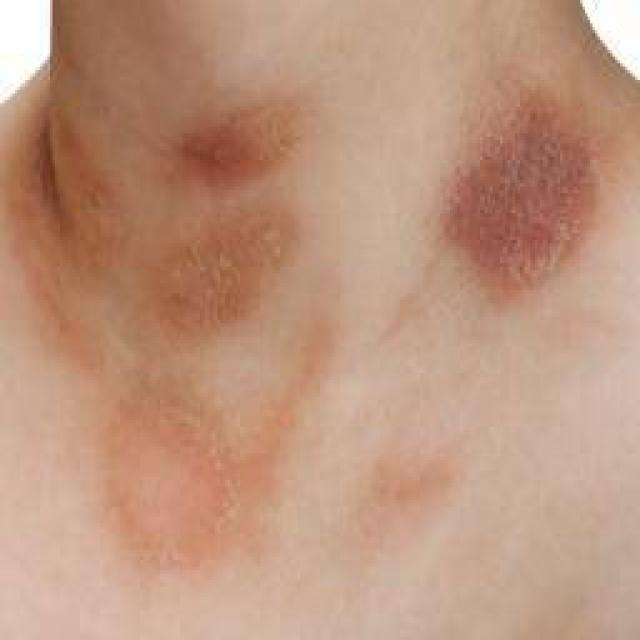Ringworm: (67, 347, 262, 587), (423, 78, 610, 305), (153, 82, 327, 207), (162, 208, 305, 340)
